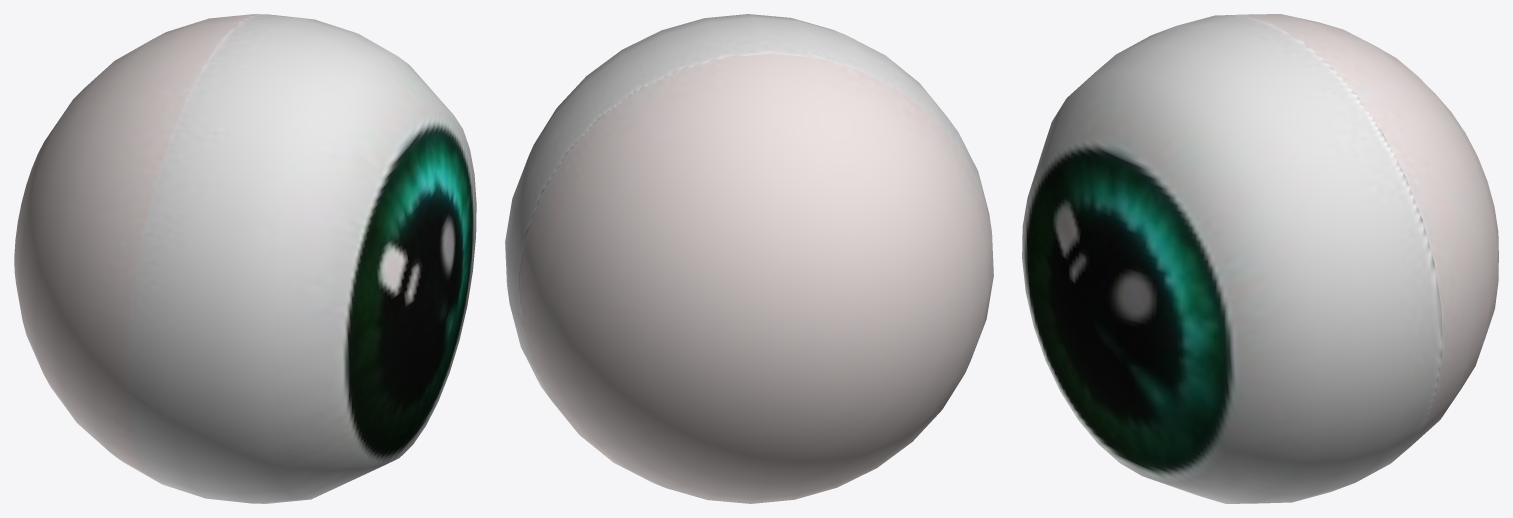
Rendered from tuzi_eye_left.fbx.
3 renders of one model, left to right at view 1: azimuth 30°, elevation 25°; view 2: azimuth 150°, elevation 25°; view 3: azimuth 270°, elevation 25°, orthographic.
Parts seen in each view (by area): view 1: EYE_RIGHT; view 2: EYE_RIGHT; view 3: EYE_RIGHT.
Boxes of the visible parts, x1,y1,x2,y2 form: EYE_RIGHT: (14, 14, 476, 503); EYE_RIGHT: (505, 14, 993, 503); EYE_RIGHT: (1022, 14, 1498, 503).
Bounding box in the file's own units: 0.0606 × 0.0605 × 0.0587.
